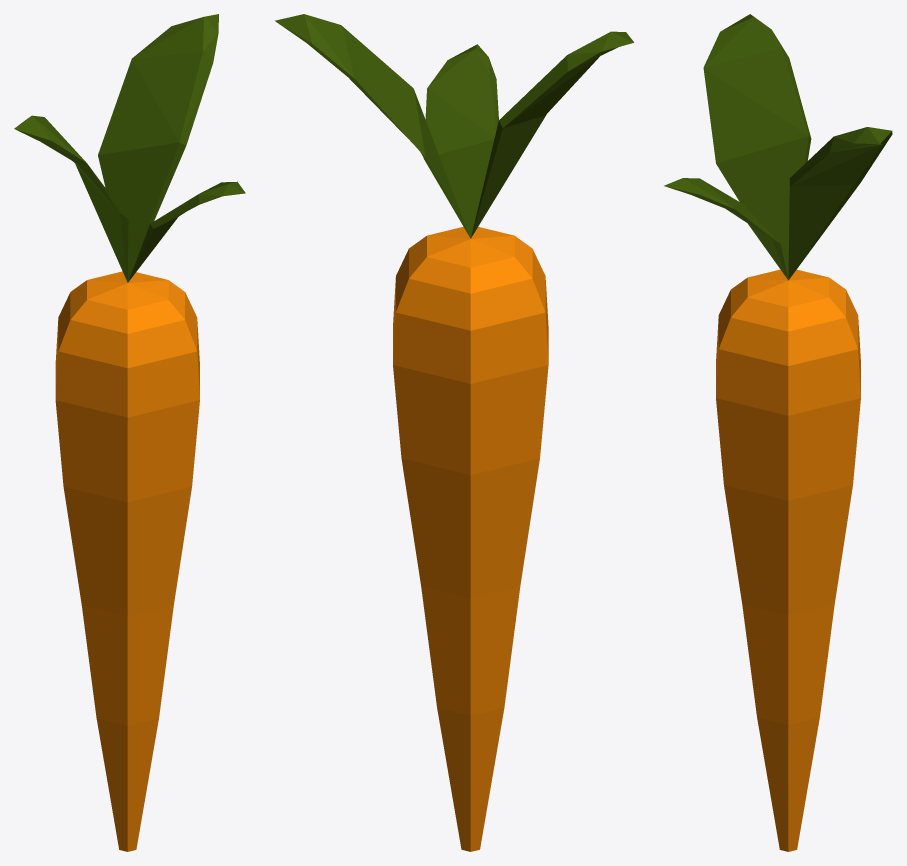
Rendered from Proto_Vegetable_Carrot_Whole_01.fbx.
3 views of the same model, side by side, from view 1: azimuth 30°, elevation 25°; view 2: azimuth 150°, elevation 25°; view 3: azimuth 270°, elevation 25° (orthographic). The views are drawn at different scales.
Parts seen in each view (by area): view 1: Proto_Vegetable_Carrot_Whole_01; view 2: Proto_Vegetable_Carrot_Whole_01; view 3: Proto_Vegetable_Carrot_Whole_01.
Part boxes in pixels (box(x1,y1,x2,y2)): Proto_Vegetable_Carrot_Whole_01: box(14, 14, 245, 851); Proto_Vegetable_Carrot_Whole_01: box(275, 14, 633, 851); Proto_Vegetable_Carrot_Whole_01: box(664, 14, 892, 851).
Bounding box in the file's own units: 0.1157 × 0.3176 × 0.0848.
